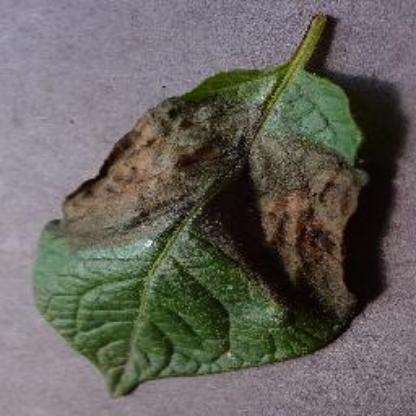Late-Blight: (27, 11, 379, 402)
